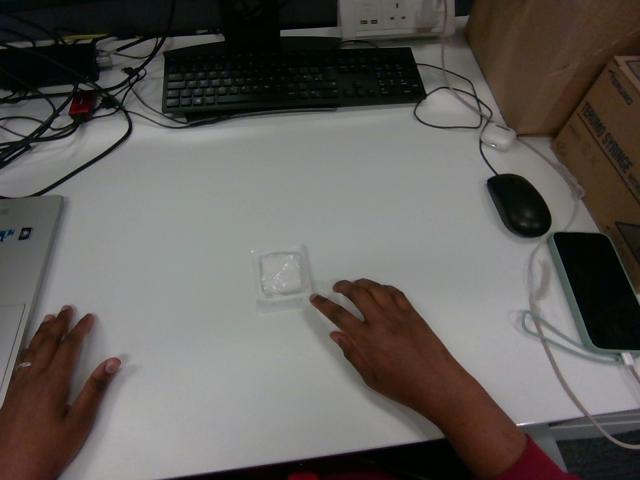gauze: (252, 246, 310, 312)
